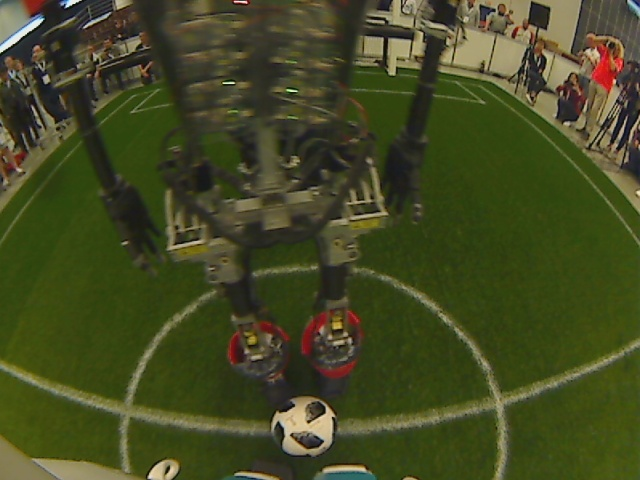ball: (267, 393, 341, 462)
